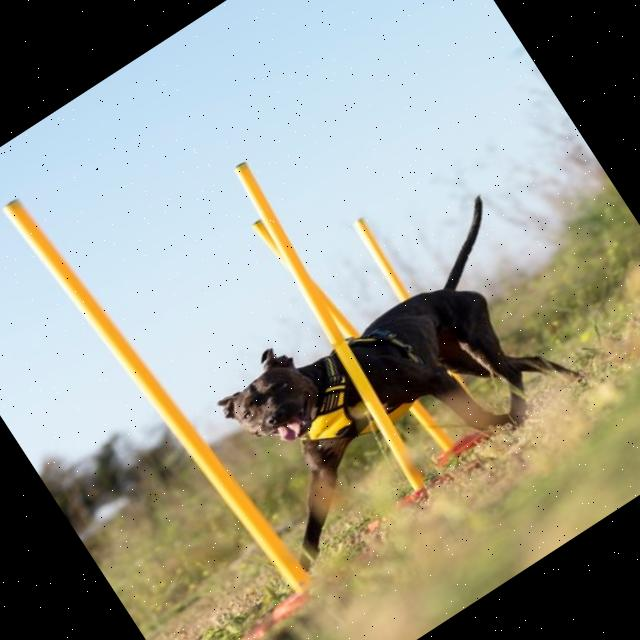Dog: (176, 195, 598, 578)
